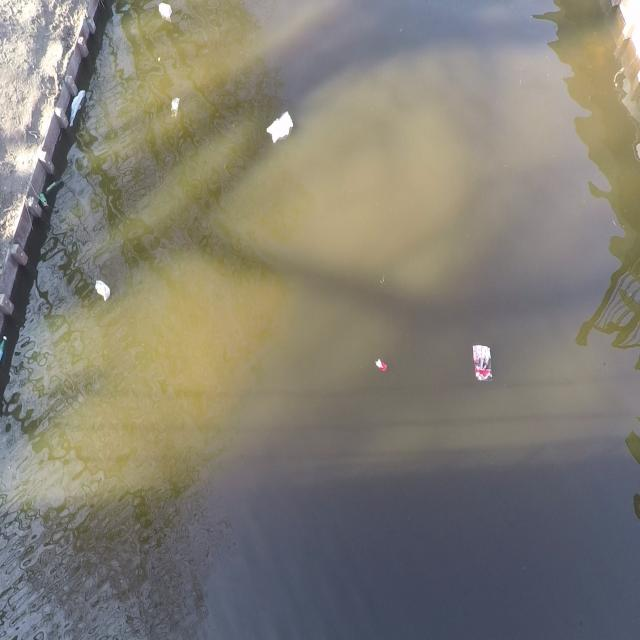Autre plastique: (468, 340, 499, 391)
Bouteille plastique: (0, 333, 10, 365)
Sac plastique: (68, 87, 90, 129), (168, 89, 184, 130)
